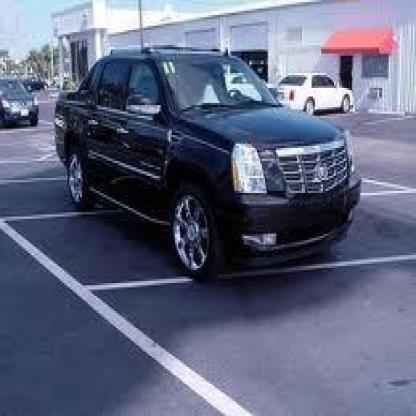Vehicle: (50, 43, 368, 285)
